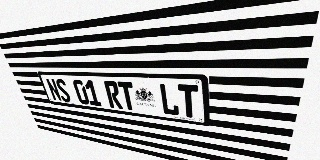0: (72, 79, 90, 105)
1: (83, 80, 102, 106)
L: (158, 83, 180, 116)
N: (45, 78, 62, 101)
R: (103, 81, 123, 109)
S: (54, 79, 72, 103)
T: (178, 84, 199, 119), (117, 81, 137, 111)
